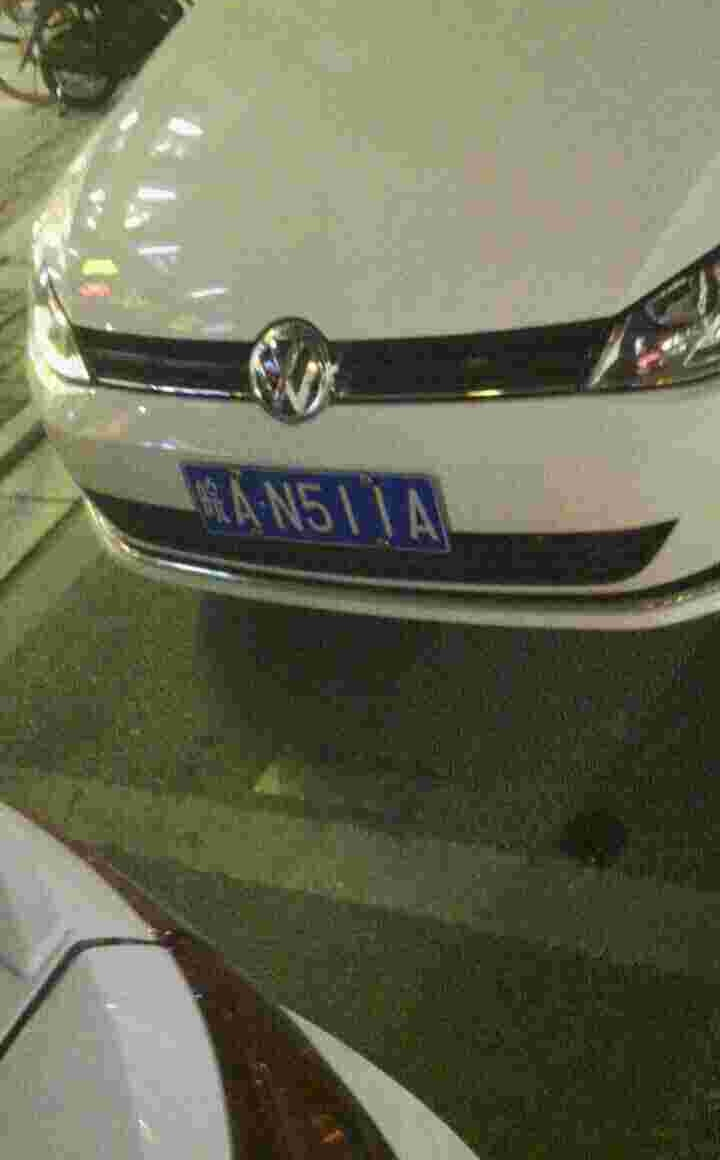license_plate: (181, 463, 457, 549)
